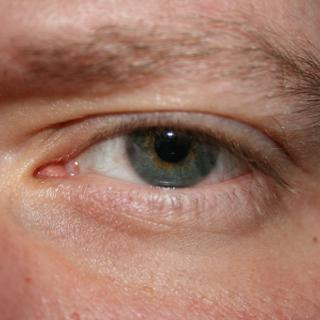pupil: (155, 127, 190, 162)
